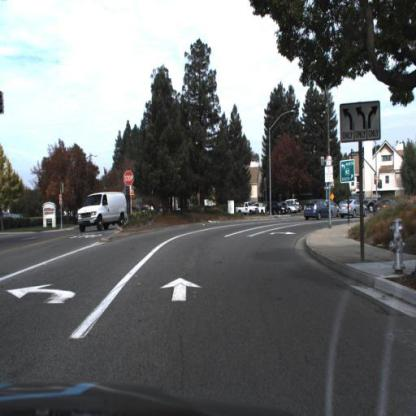car: (72, 185, 132, 234), (299, 194, 334, 223), (301, 200, 334, 227), (334, 194, 368, 220), (335, 196, 371, 218), (232, 198, 257, 219), (263, 200, 289, 218), (258, 198, 268, 218)
